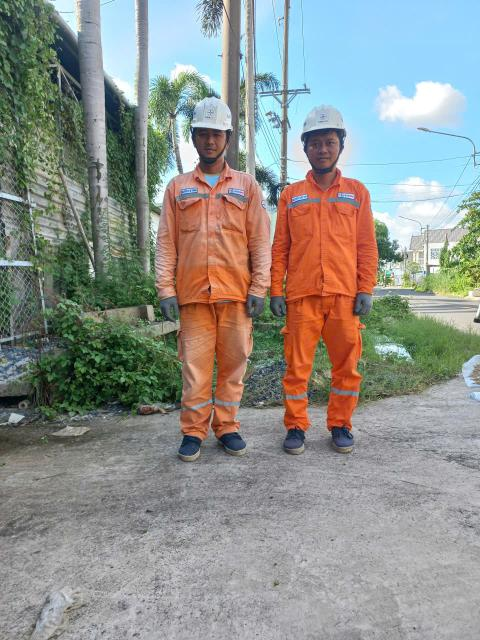gloves: (157, 292, 183, 328), (349, 288, 377, 319), (267, 289, 289, 321), (243, 291, 267, 320)
helmet: (166, 87, 242, 138), (292, 94, 351, 148)
shoes: (276, 423, 311, 460), (173, 432, 210, 463), (218, 430, 250, 459), (332, 421, 356, 457)
